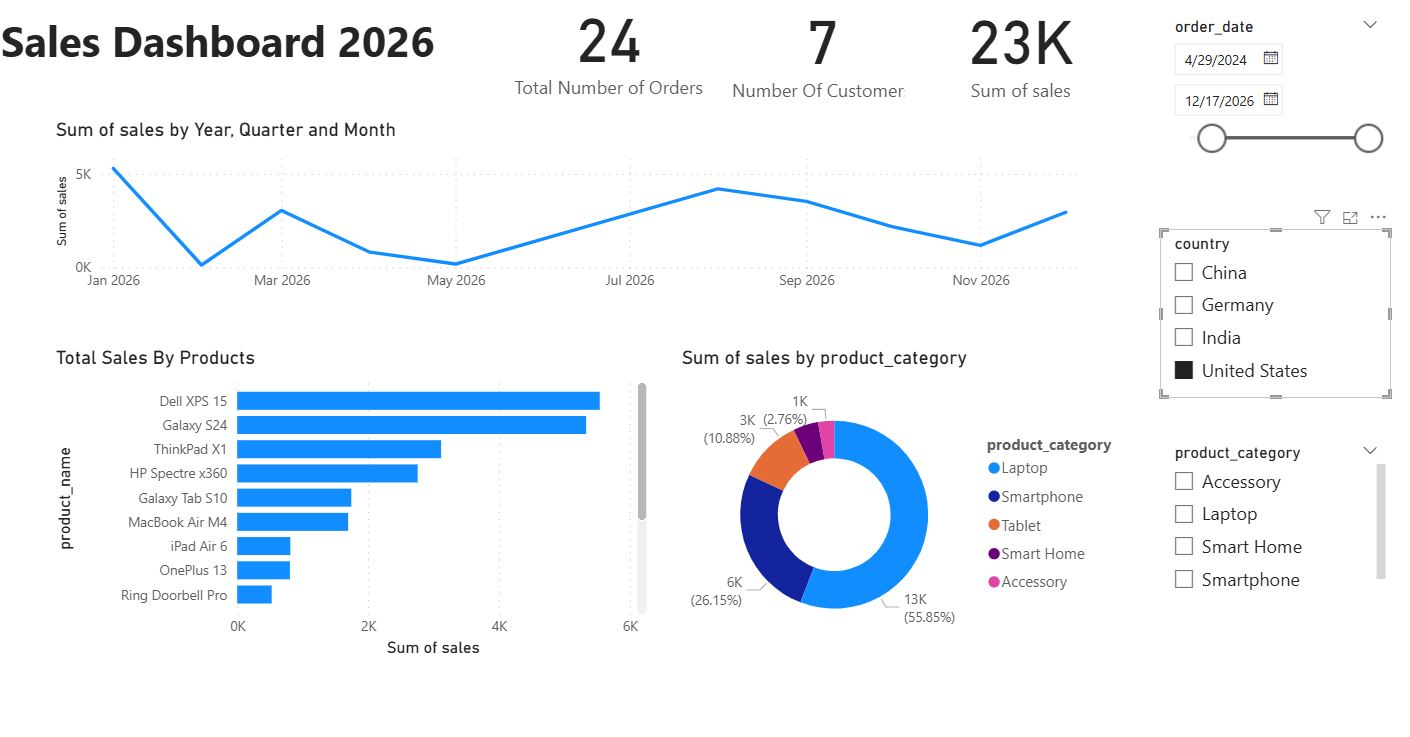

What the dashboard file says about the page in this screenshot:
{"tool":"powerbi","page":{"name":"Page 1","canvas":[1280,720],"ordinal":0},"visuals":[{"type":"barChart","title":"Total Sales By Products","fields":{"Category":["orders.product_name"],"Y":["Sum(orders.sales)"]},"box":[48.6,342.4,534,280.1],"z":0},{"type":"donutChart","fields":{"Y":["Sum(orders.sales)"],"Category":["orders.product_category"]},"box":[604,342.4,406.6,280.1],"z":1000},{"type":"card","fields":{"Values":["CountNonNull(orders.order_id)"]},"box":[441.6,23.3,205.2,103.1],"z":2000},{"type":"card","fields":{"Values":["Count(orders.customer_id)"]},"box":[630.3,22.4,205.2,108.9],"z":3000},{"type":"card","fields":{"Values":["Sum(orders.sales)"]},"box":[807.3,27.2,205.2,99.2],"z":4000},{"type":"lineChart","fields":{"Y":["Sum(orders.sales)"],"Category":["orders.order_date.Variation.Date Hierarchy.Year","orders.order_date.Variation.Date Hierarchy.Quarter","orders.order_date.Variation.Date Hierarchy.Month","orders.order_date.Variation.Date Hierarchy.Day"]},"box":[48.6,140.1,931.8,162.4],"z":5000},{"type":"slicer","fields":{"Values":["orders.order_date"]},"box":[1032.9,45.7,205.2,170.2],"z":6000},{"type":"slicer","fields":{"Values":["orders.product_category"]},"box":[1032.9,424.1,205.2,149.8],"z":7000},{"type":"slicer","fields":{"Values":["customers.country"]},"box":[1032.9,238.3,205.2,149.8],"z":8000},{"type":"textbox","box":[0,40.9,399.8,85.6],"z":8001}]}

Visuals, with their boxes on the page's 1280x720 design canvas (x1, y1, x2, y2). These are canvas units, not pixel positions in the 1410x737 screenshot, which may show the page scaled, cropped or inside an application window:
"Total Sales By Products" barChart: [49, 342, 583, 622]
donutChart - Sum(orders.sales) x orders.product_category: [604, 342, 1011, 622]
card - CountNonNull(orders.order_id): [442, 23, 647, 126]
card - Count(orders.customer_id): [630, 22, 836, 131]
card - Sum(orders.sales): [807, 27, 1012, 126]
lineChart - Sum(orders.sales) x orders.order_date.Variation.Date Hierarchy.Year: [49, 140, 980, 302]
slicer - orders.order_date: [1033, 46, 1238, 216]
slicer - orders.product_category: [1033, 424, 1238, 574]
slicer - customers.country: [1033, 238, 1238, 388]
textbox: [0, 41, 400, 126]
